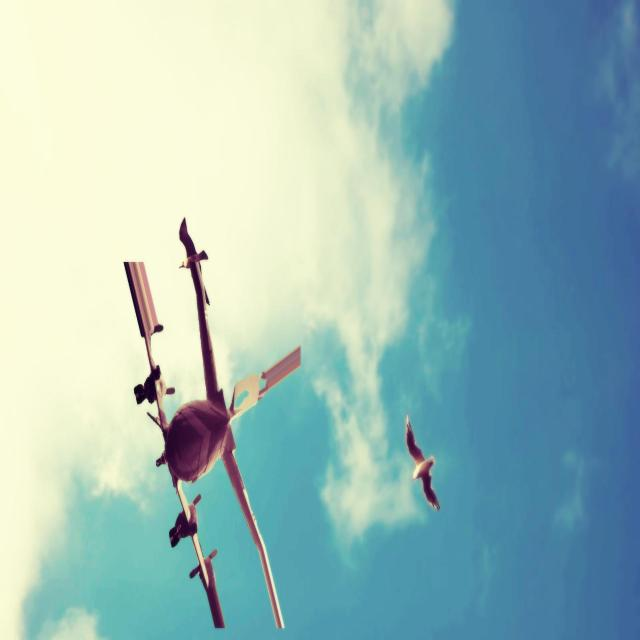airplane: (123, 262, 301, 629)
